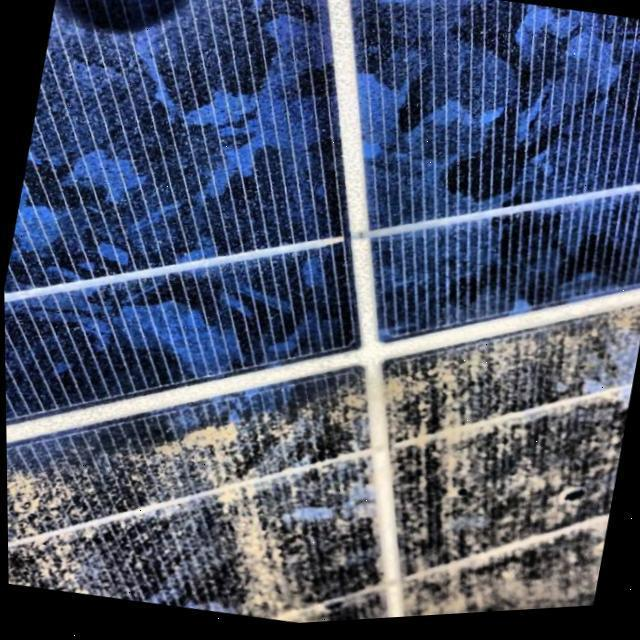Surface Contaminant: (5, 364, 391, 627), (381, 313, 640, 622)
